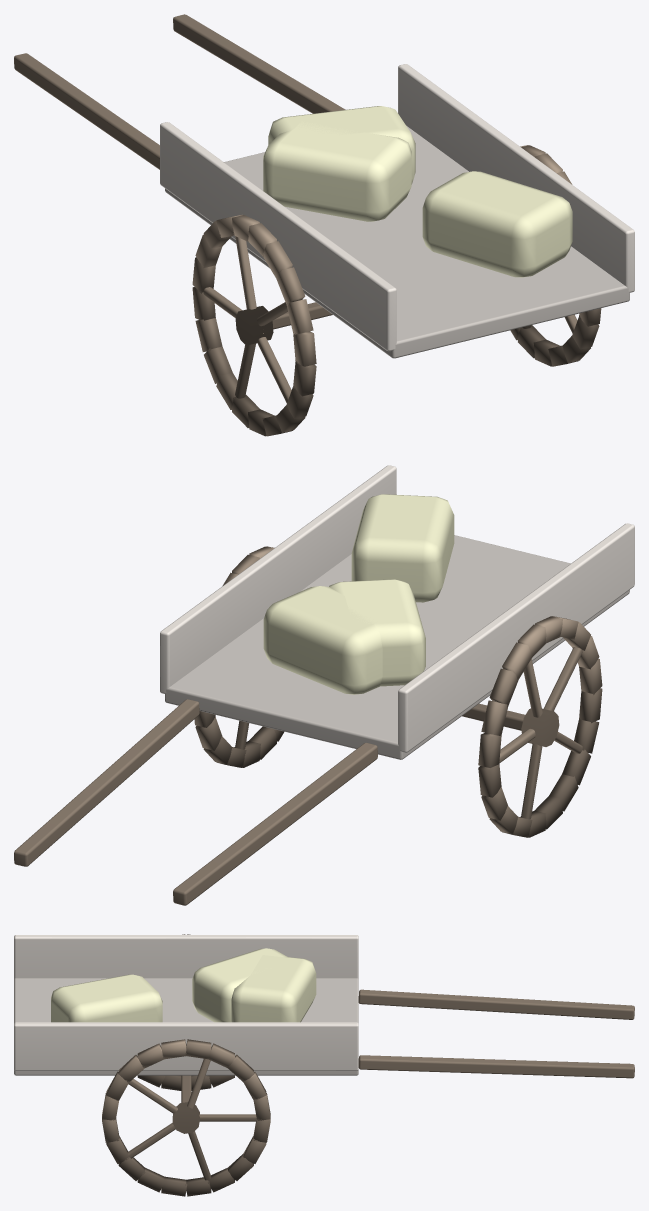
The model's file is cart.glb.
3 renders of one model, top to bottom at view 1: azimuth 30°, elevation 25°; view 2: azimuth 150°, elevation 25°; view 3: azimuth 270°, elevation 25°, orthographic. The views are drawn at different scales.
Parts seen in each view (by area): view 1: cart; view 2: cart; view 3: cart.
Boxes of the visible parts, x1,y1,x2,y2 form: cart: (14, 14, 634, 436); cart: (14, 465, 634, 905); cart: (14, 934, 634, 1196).
Bounding box in the file's own units: 1.54 × 1.09 × 3.6.
